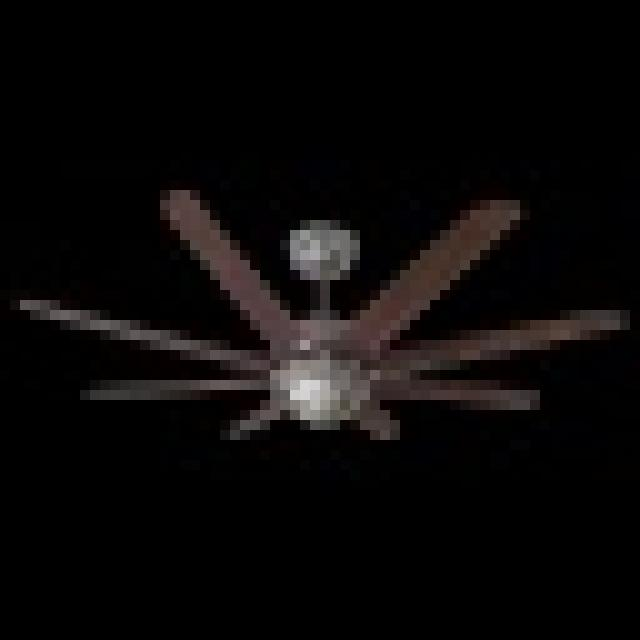Bulb: (31, 152, 640, 444)
